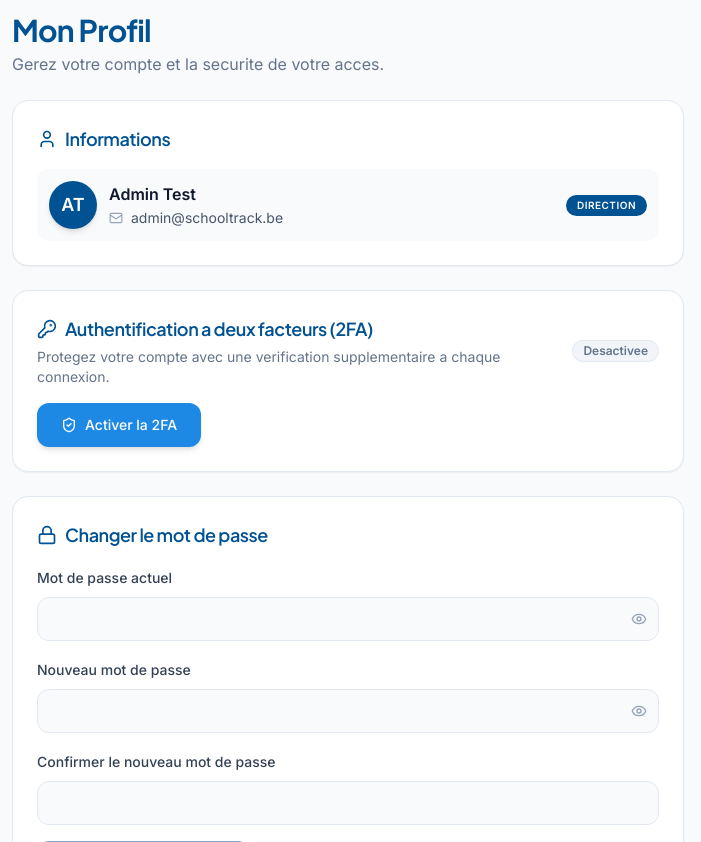
ProfileScreen — Activation 2FA par Email › active la 2FA par email apres verification du code
The image size is (701, 842).
Click the button "Activer la 2FA" at (119, 425), box x1=37 y1=403 x2=201 y2=447
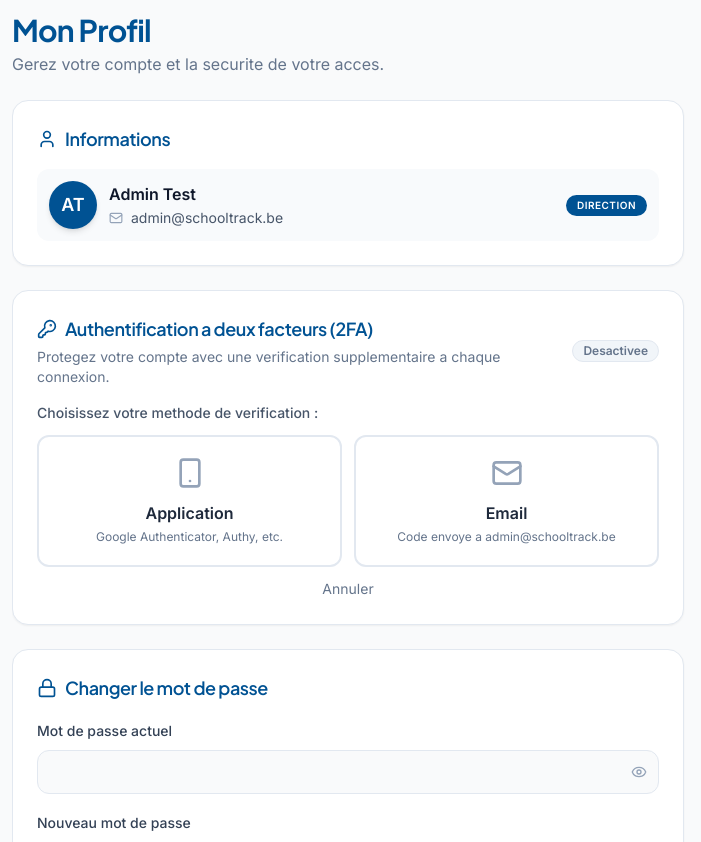
Click the text "Email" at (507, 513), box x1=486 y1=503 x2=527 y2=523
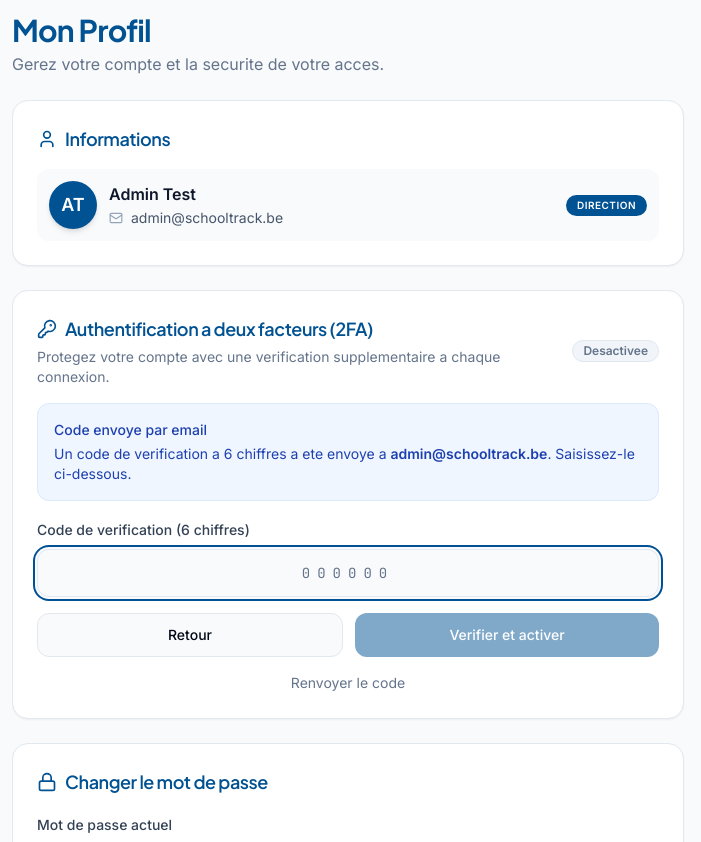
Check: the field labelled "Code de verification (6 chiffres)" is shown
Type "654321" into the field labelled "Code de verification (6 chiffres)" at (348, 573), box x1=37 y1=549 x2=659 y2=597
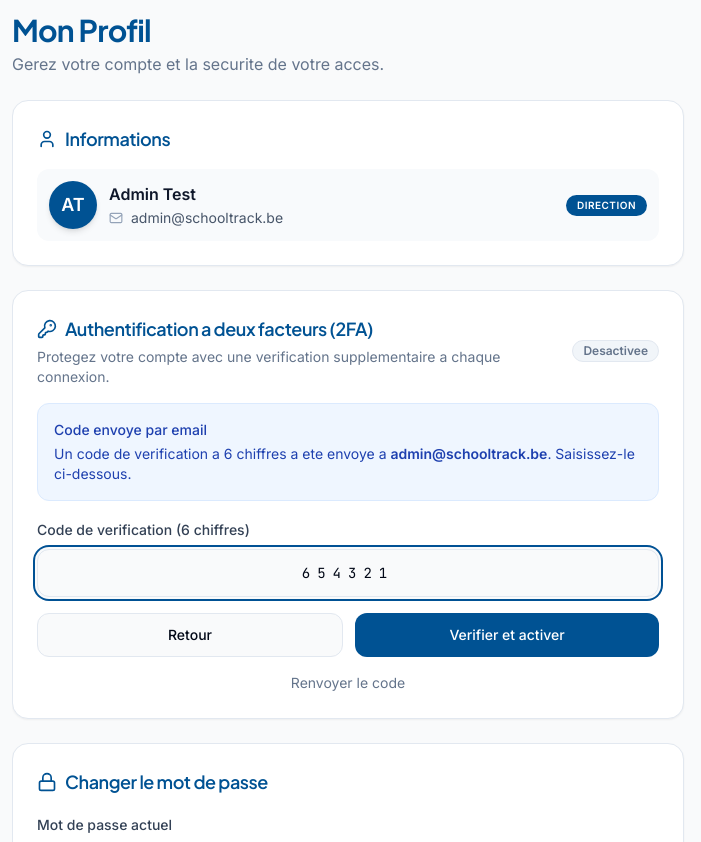
Click the button "Verifier et activer" at (507, 635), box x1=355 y1=613 x2=659 y2=657
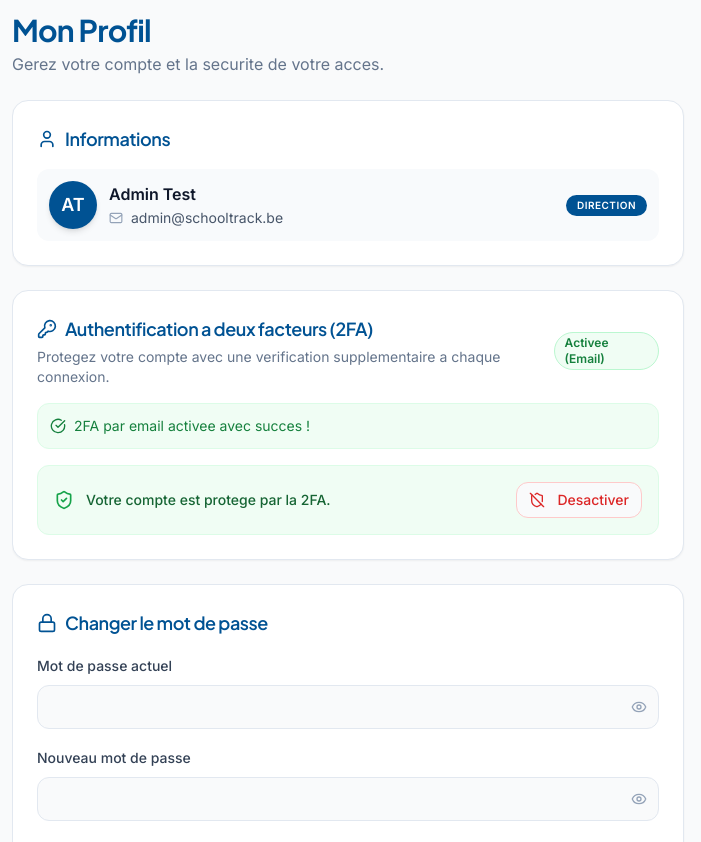
Check: the text "2FA par email activee avec succes !" is shown, box x1=37 y1=403 x2=659 y2=449
